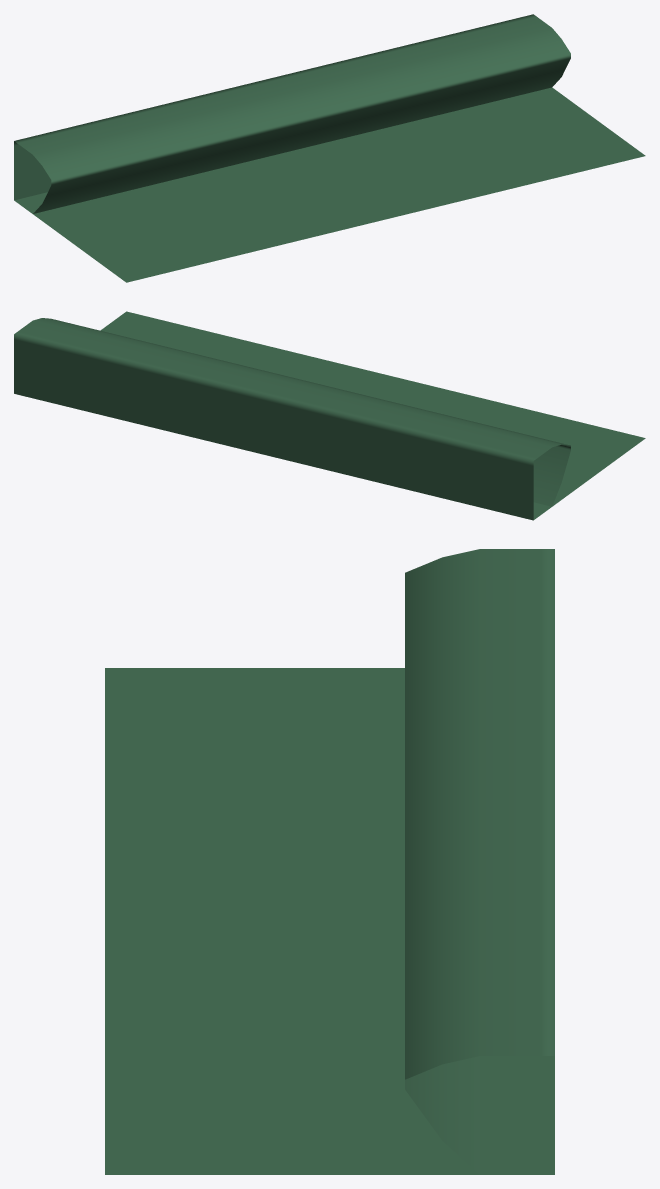
File: table_cushion_straight_d.fbx
3 views of the same model, one above another, from view 1: azimuth 30°, elevation 25°; view 2: azimuth 150°, elevation 25°; view 3: azimuth 270°, elevation 25° (orthographic). The views are drawn at different scales.
Parts seen in each view (by area): view 1: lod0; view 2: lod0; view 3: lod0.
Boxes of the visible parts, bbox=[...] form: lod0: bbox=[14, 14, 645, 282]; lod0: bbox=[14, 311, 645, 520]; lod0: bbox=[105, 549, 554, 1174].
Size of the model in its own units: 16 by 1.75 by 6.
